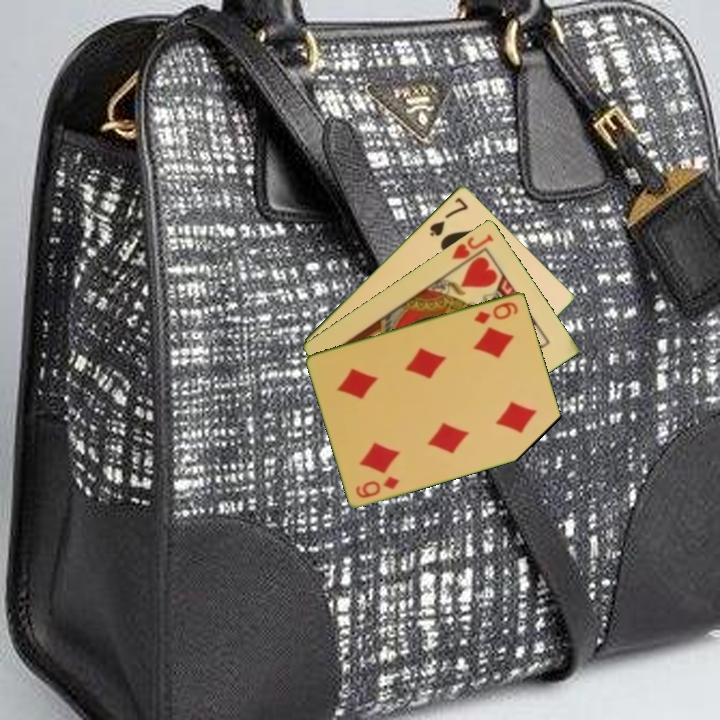6d: (352, 472, 403, 501), (471, 298, 521, 327)
7s: (426, 193, 471, 239)
Jh: (448, 230, 497, 262)
